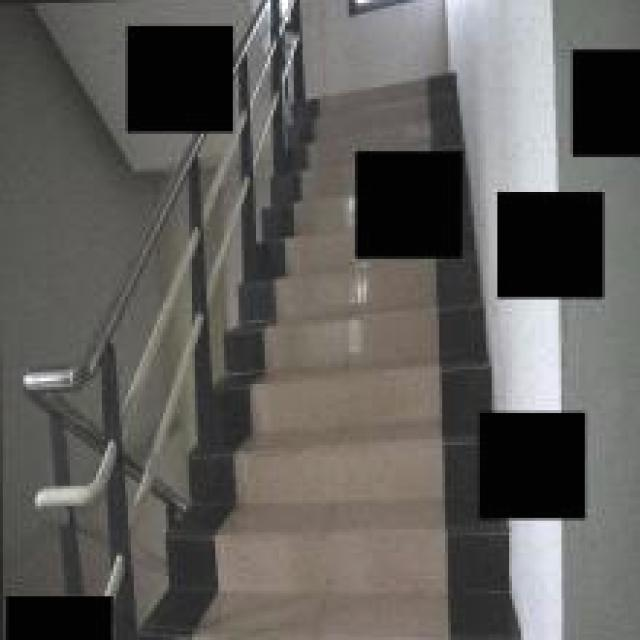upstair: (240, 283, 478, 640)
